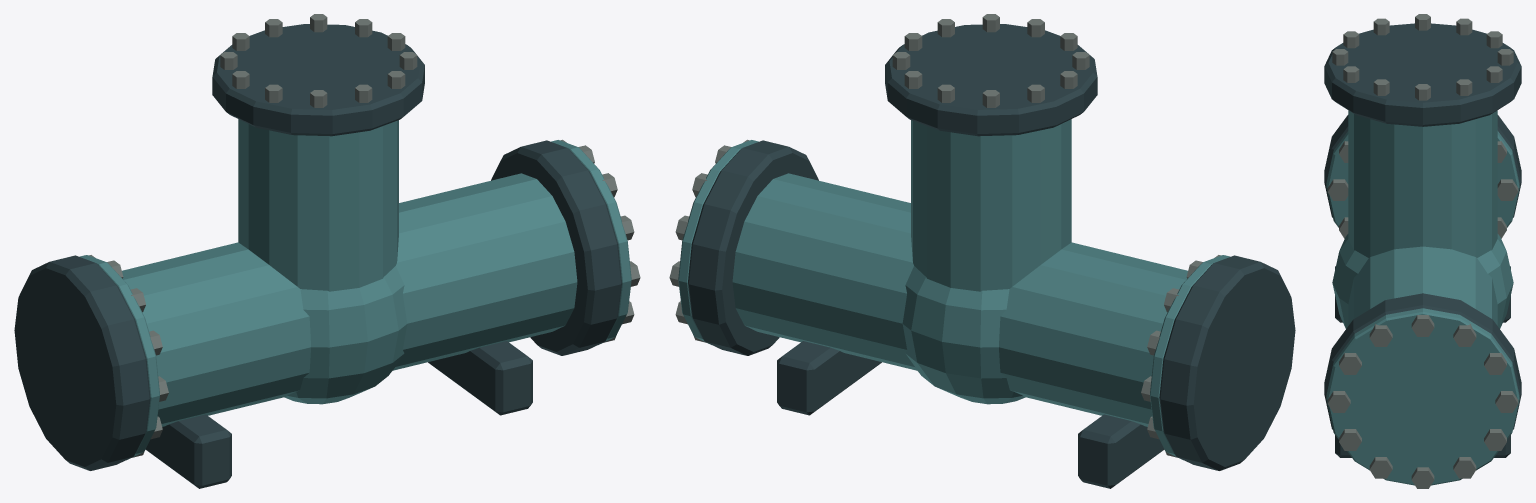
The model's file is pipe-tee.glb.
The picture shows the model from 3 angles, left to right: view 1: azimuth 30°, elevation 25°; view 2: azimuth 150°, elevation 25°; view 3: azimuth 270°, elevation 25°; orthographic projection. The views are drawn at different scales.
Parts seen in each view (by area): view 1: pipe-tee__pipe-tee__petrol, pipe-tee__pipe-tee__steel, pipe-tee__pipe-tee__hardware; view 2: pipe-tee__pipe-tee__petrol, pipe-tee__pipe-tee__steel, pipe-tee__pipe-tee__hardware; view 3: pipe-tee__pipe-tee__petrol, pipe-tee__pipe-tee__steel, pipe-tee__pipe-tee__hardware.
Boxes of the visible parts, x1,y1,x2,y2 form: pipe-tee__pipe-tee__petrol: (79, 119, 631, 460); pipe-tee__pipe-tee__steel: (14, 24, 621, 488); pipe-tee__pipe-tee__hardware: (89, 14, 640, 457); pipe-tee__pipe-tee__petrol: (678, 119, 1230, 460); pipe-tee__pipe-tee__steel: (688, 24, 1295, 488); pipe-tee__pipe-tee__hardware: (669, 14, 1220, 457); pipe-tee__pipe-tee__petrol: (1326, 110, 1519, 485); pipe-tee__pipe-tee__steel: (1324, 23, 1521, 457); pipe-tee__pipe-tee__hardware: (1327, 14, 1518, 488).
Size of the model in its own units: 2.09 by 1.38 by 0.74.
